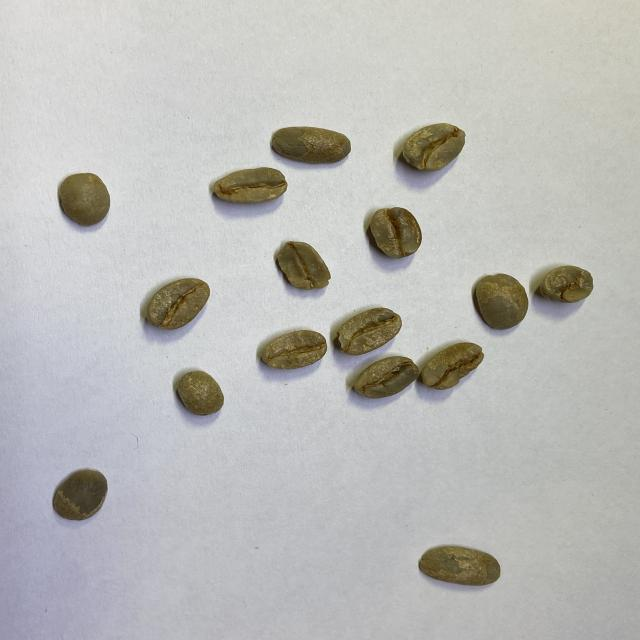bad: (419, 342, 484, 391), (274, 240, 332, 293), (351, 355, 416, 400), (544, 264, 593, 305)
good: (146, 275, 211, 331), (418, 543, 502, 586), (400, 121, 466, 174), (211, 164, 287, 208), (472, 273, 529, 331), (270, 125, 352, 164), (53, 466, 109, 522), (336, 306, 401, 352), (58, 173, 111, 227), (260, 328, 328, 370), (370, 207, 425, 258), (172, 369, 225, 416)
